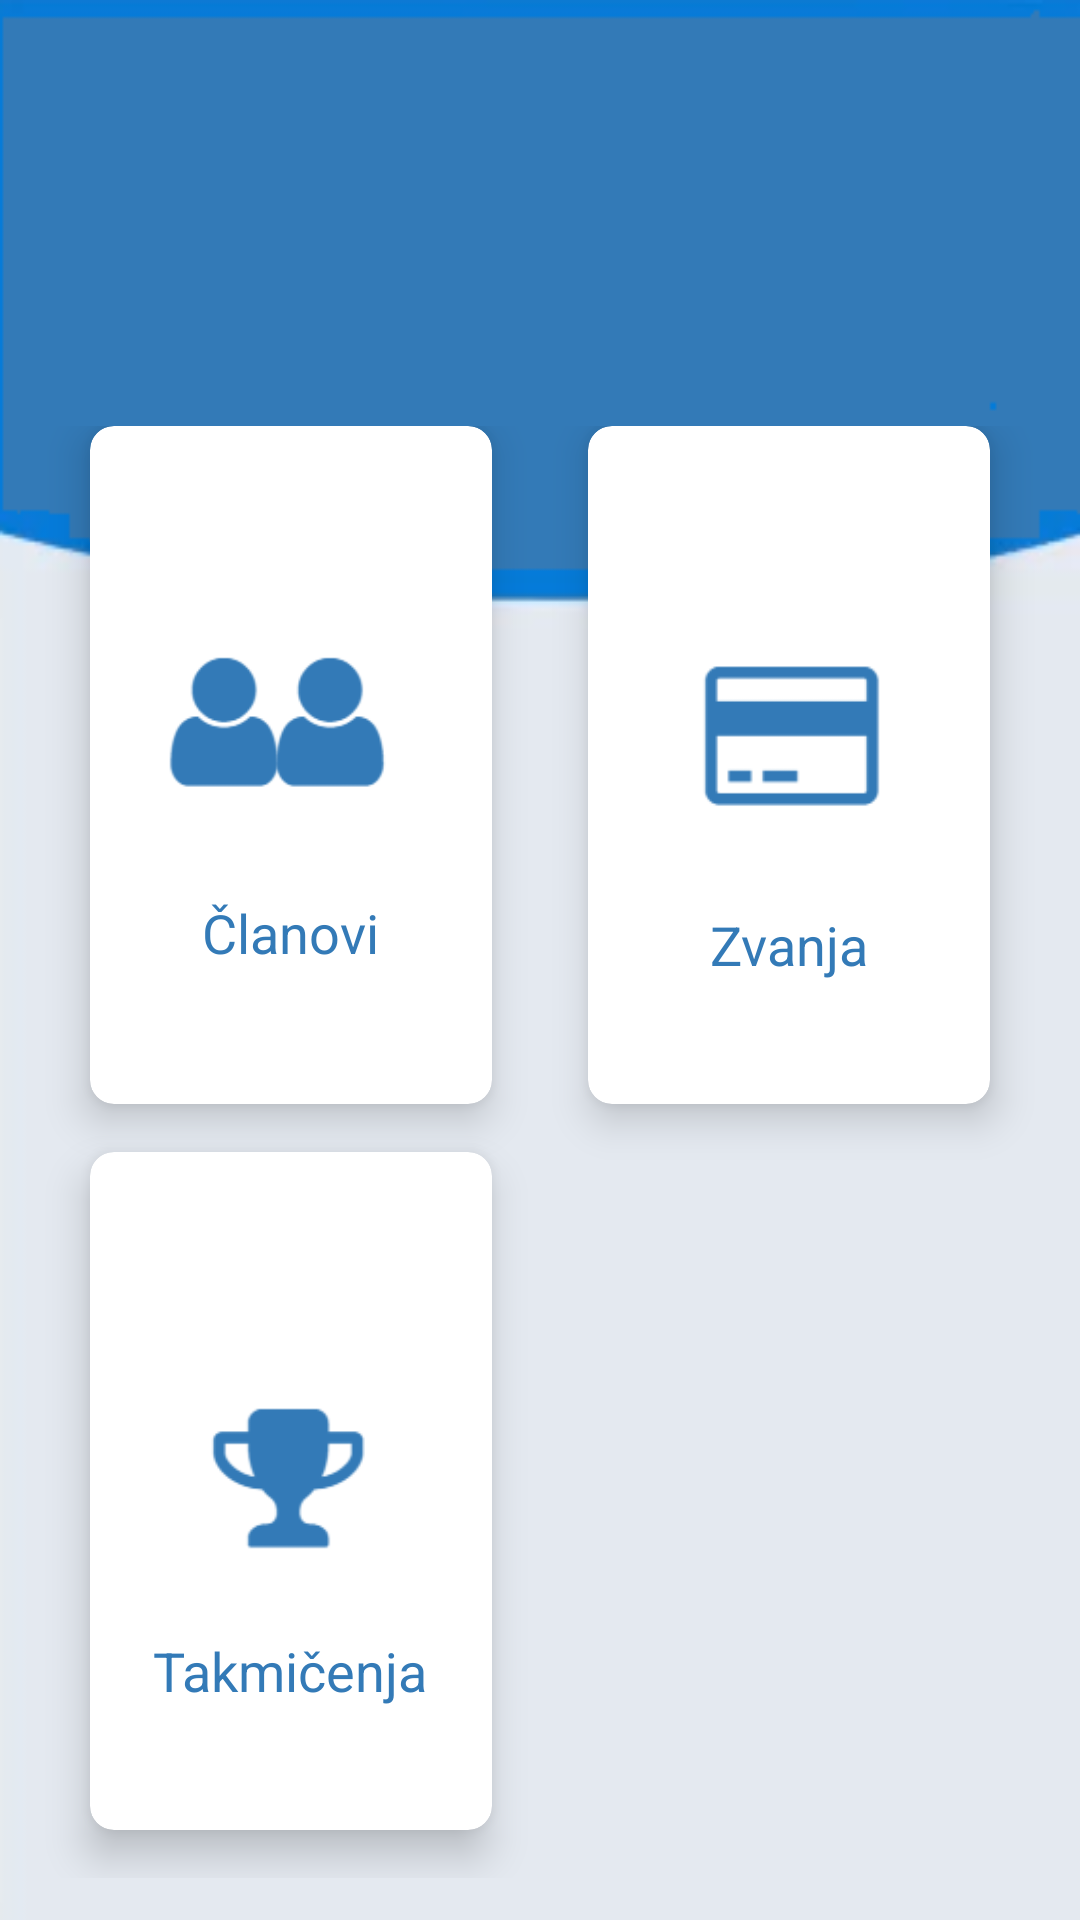

Named icons in this screenshot (1080 x 1920) and their centers, (x,y):
clanovi kluba: (277,722)
rezultati: (288,1478)
